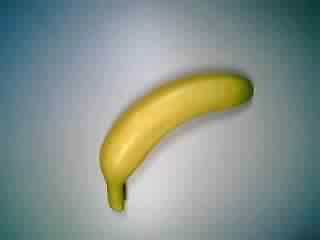banana: (93, 67, 264, 215)
